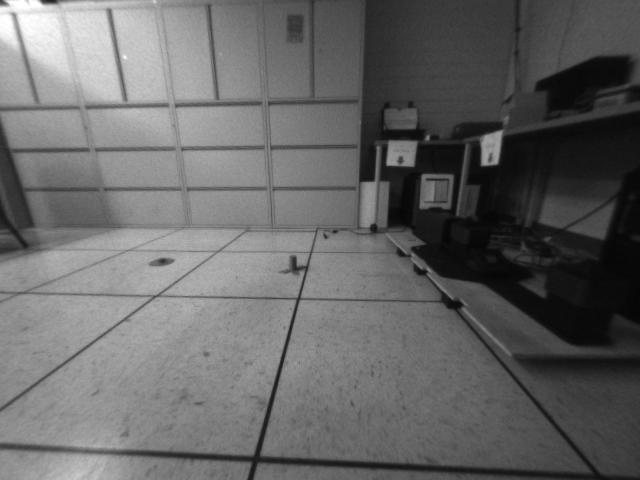X: (280, 253, 308, 275)
